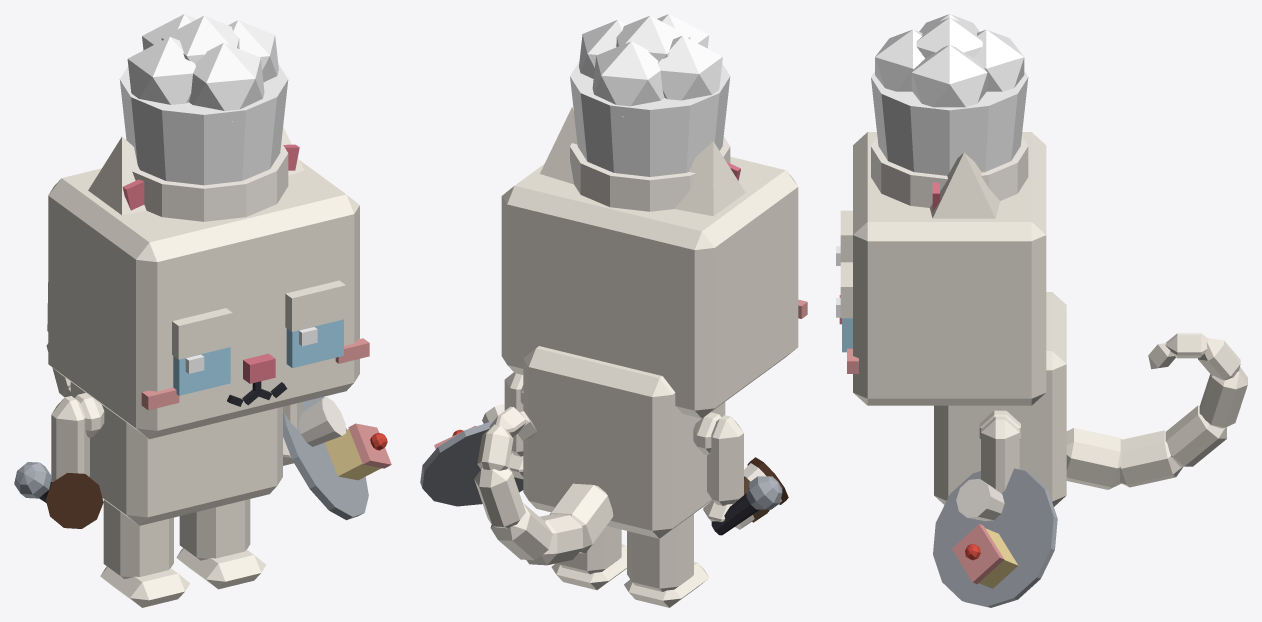
File: CatCafe_Cat_CafeGhost_Work.glb
The picture shows the model from 3 angles, left to right: view 1: azimuth 30°, elevation 25°; view 2: azimuth 150°, elevation 25°; view 3: azimuth 270°, elevation 25°; orthographic projection. The views are drawn at different scales.
Visible parts, largest first — view 1: CatCafe_Cat_CafeGhost_Work_Head, CatCafe_Cat_CafeGhost_Work_Prop, CatCafe_Cat_CafeGhost_Work_Body, CatCafe_Cat_CafeGhost_Work_Held_Waiter, CatCafe_Cat_CafeGhost_Work_LegB2, CatCafe_Cat_CafeGhost_Work_LegB1, CatCafe_Cat_CafeGhost_Work_Eye1, CatCafe_Cat_CafeGhost_Work_Eye2, CatCafe_Cat_CafeGhost_Work_LegF2, CatCafe_Cat_CafeGhost_Work_EarR, CatCafe_Cat_CafeGhost_Work_Held_Barista, CatCafe_Cat_CafeGhost_Work_Held_Entertainer (+1 smaller); view 2: CatCafe_Cat_CafeGhost_Work_Head, CatCafe_Cat_CafeGhost_Work_Body, CatCafe_Cat_CafeGhost_Work_Prop, CatCafe_Cat_CafeGhost_Work_Tail, CatCafe_Cat_CafeGhost_Work_LegB2, CatCafe_Cat_CafeGhost_Work_Held_Waiter, CatCafe_Cat_CafeGhost_Work_LegF2, CatCafe_Cat_CafeGhost_Work_EarR, CatCafe_Cat_CafeGhost_Work_LegB1, CatCafe_Cat_CafeGhost_Work_Held_Entertainer, CatCafe_Cat_CafeGhost_Work_EarL, CatCafe_Cat_CafeGhost_Work_LegF1 (+1 smaller); view 3: CatCafe_Cat_CafeGhost_Work_Head, CatCafe_Cat_CafeGhost_Work_Prop, CatCafe_Cat_CafeGhost_Work_Held_Waiter, CatCafe_Cat_CafeGhost_Work_Tail, CatCafe_Cat_CafeGhost_Work_Body, CatCafe_Cat_CafeGhost_Work_EarL, CatCafe_Cat_CafeGhost_Work_LegF1, CatCafe_Cat_CafeGhost_Work_Eye1, CatCafe_Cat_CafeGhost_Work_Eye2.
Part boxes in pixels (x1,y1,x2,y2): CatCafe_Cat_CafeGhost_Work_Head: (48, 160, 369, 439); CatCafe_Cat_CafeGhost_Work_Prop: (119, 14, 288, 221); CatCafe_Cat_CafeGhost_Work_Body: (70, 382, 282, 525); CatCafe_Cat_CafeGhost_Work_Held_Waiter: (283, 396, 391, 520); CatCafe_Cat_CafeGhost_Work_LegB2: (100, 500, 189, 607); CatCafe_Cat_CafeGhost_Work_LegB1: (176, 499, 265, 589); CatCafe_Cat_CafeGhost_Work_Eye1: (285, 280, 345, 368); CatCafe_Cat_CafeGhost_Work_Eye2: (172, 308, 232, 395); CatCafe_Cat_CafeGhost_Work_LegF2: (51, 396, 89, 481); CatCafe_Cat_CafeGhost_Work_EarR: (88, 136, 146, 214); CatCafe_Cat_CafeGhost_Work_Held_Barista: (45, 473, 103, 528); CatCafe_Cat_CafeGhost_Work_Held_Entertainer: (14, 462, 52, 502); CatCafe_Cat_CafeGhost_Work_Head: (501, 156, 807, 418); CatCafe_Cat_CafeGhost_Work_Body: (520, 346, 725, 538); CatCafe_Cat_CafeGhost_Work_Prop: (570, 14, 730, 211); CatCafe_Cat_CafeGhost_Work_Tail: (474, 406, 613, 565); CatCafe_Cat_CafeGhost_Work_LegB2: (624, 514, 709, 607); CatCafe_Cat_CafeGhost_Work_Held_Waiter: (420, 403, 523, 506); CatCafe_Cat_CafeGhost_Work_LegF2: (703, 415, 743, 522); CatCafe_Cat_CafeGhost_Work_EarR: (675, 141, 745, 216); CatCafe_Cat_CafeGhost_Work_LegB1: (551, 526, 626, 590); CatCafe_Cat_CafeGhost_Work_Held_Entertainer: (711, 476, 782, 535); CatCafe_Cat_CafeGhost_Work_EarL: (540, 107, 577, 184); CatCafe_Cat_CafeGhost_Work_LegF1: (504, 372, 523, 479); CatCafe_Cat_CafeGhost_Work_Head: (839, 132, 1046, 405); CatCafe_Cat_CafeGhost_Work_Prop: (871, 14, 1028, 207); CatCafe_Cat_CafeGhost_Work_Held_Waiter: (933, 468, 1057, 607); CatCafe_Cat_CafeGhost_Work_Tail: (1066, 333, 1247, 489); CatCafe_Cat_CafeGhost_Work_Body: (934, 292, 1066, 506); CatCafe_Cat_CafeGhost_Work_EarL: (930, 152, 999, 218); CatCafe_Cat_CafeGhost_Work_LegF1: (981, 416, 1019, 493); CatCafe_Cat_CafeGhost_Work_Eye1: (836, 262, 852, 352); CatCafe_Cat_CafeGhost_Work_Eye2: (836, 210, 852, 265).
Size of the model in its own units: 1.53 by 2.36 by 1.62.
Materials: 1 (1 with a texture image).
